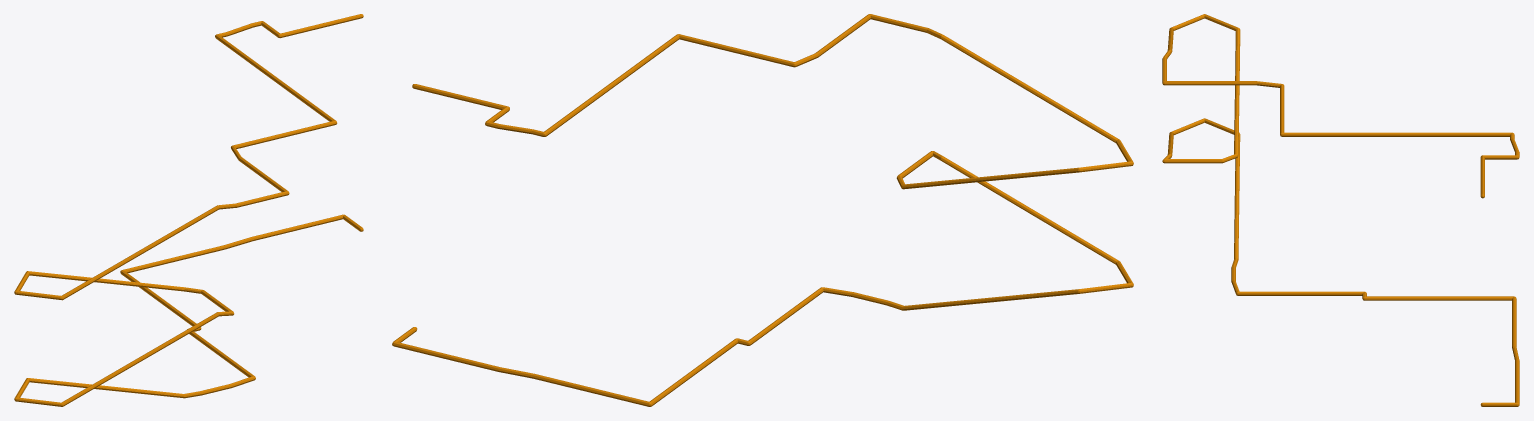
3 views of the same model, side by side, from view 1: azimuth 30°, elevation 25°; view 2: azimuth 150°, elevation 25°; view 3: azimuth 270°, elevation 25° (orthographic). The views are drawn at different scales.
Size of the model in its own units: 2408 by 1020 by 1553.
